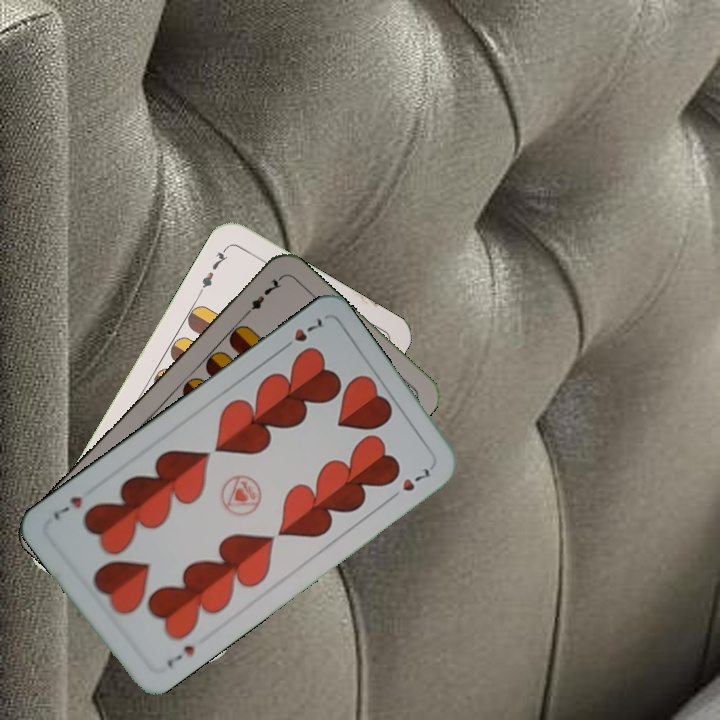E7: (238, 273, 284, 321), (195, 243, 231, 297)
H7: (276, 313, 327, 354), (162, 641, 198, 670)
